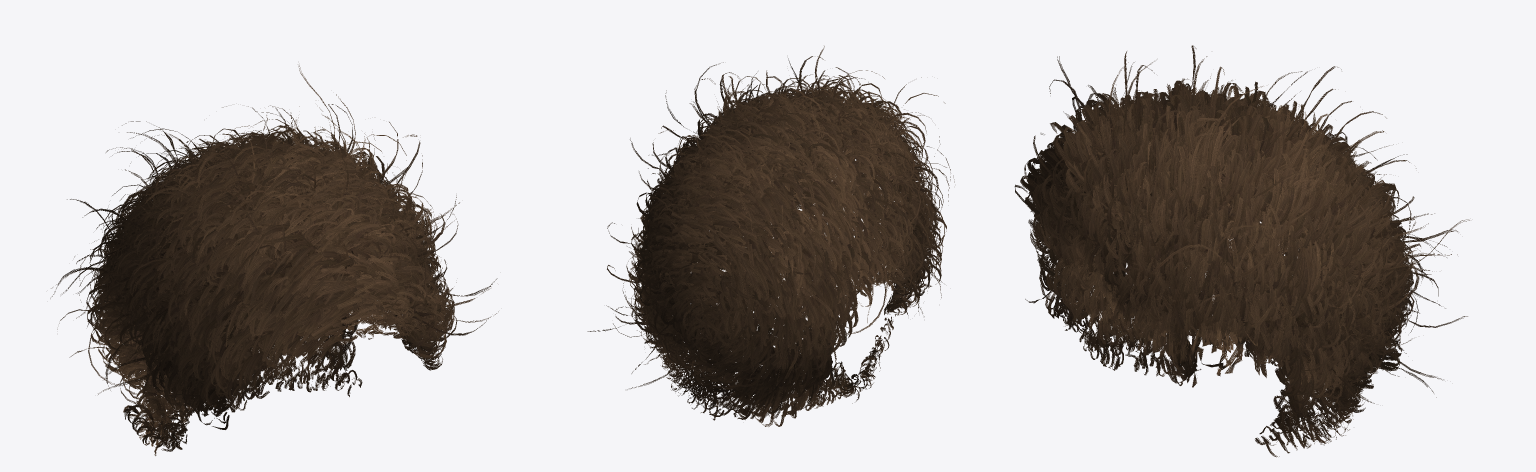
Rendered from hair-curly-v41-opt.glb.
The picture shows the model from 3 angles, left to right: view 1: azimuth 30°, elevation 25°; view 2: azimuth 150°, elevation 25°; view 3: azimuth 270°, elevation 25°; orthographic projection. The views are drawn at different scales.
Parts seen in each view (by area): view 1: hair-curly-v41; view 2: hair-curly-v41; view 3: hair-curly-v41.
Boxes of the visible parts, bbox=[...] form: hair-curly-v41: bbox=[50, 65, 498, 455]; hair-curly-v41: bbox=[587, 46, 954, 426]; hair-curly-v41: bbox=[1014, 45, 1469, 457].
Bounding box in the file's own units: 1.49 × 1.52 × 1.78.
1 material, 1 textured.
